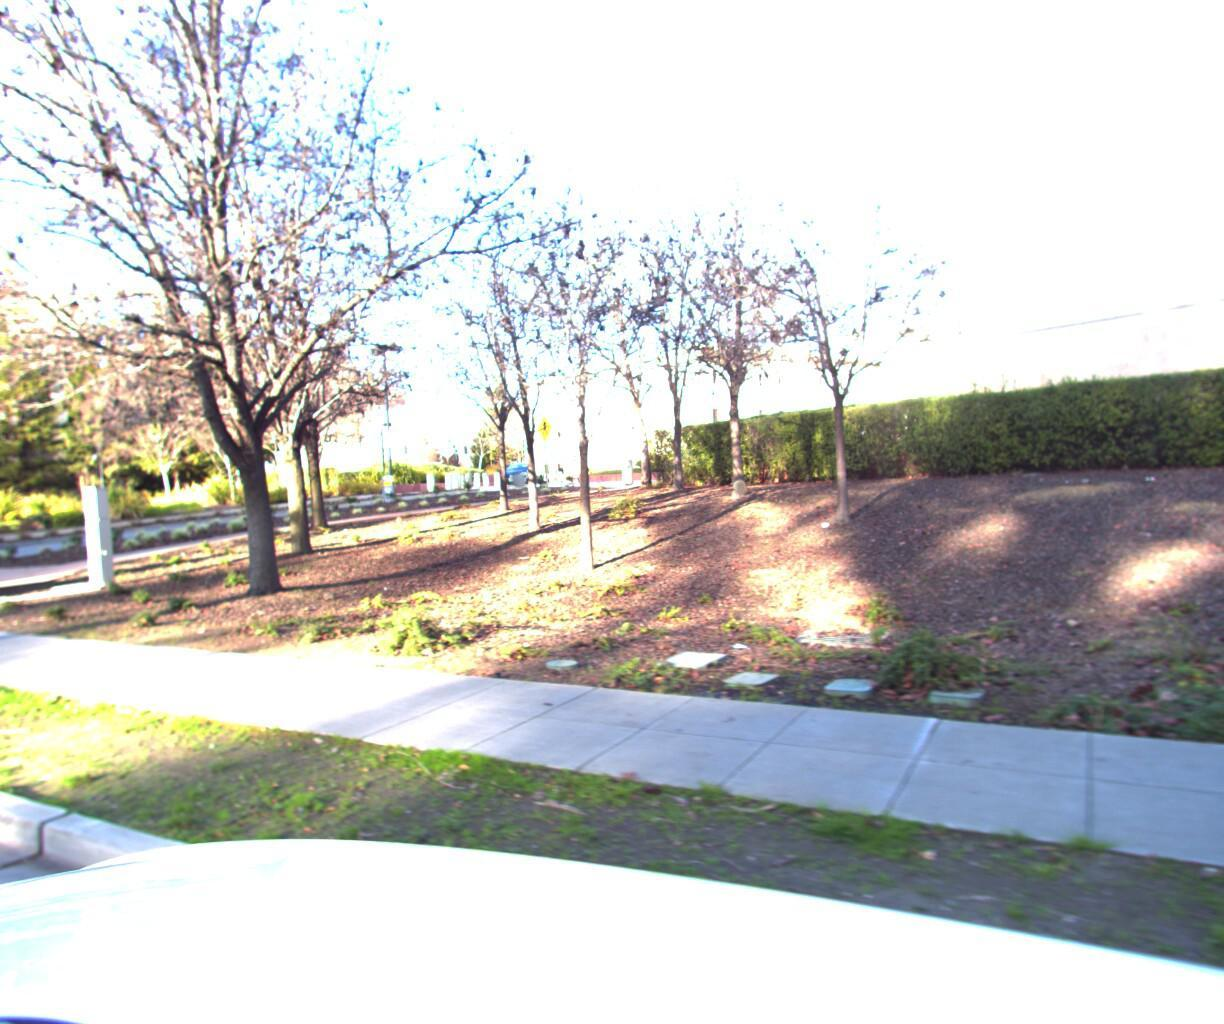car: (492, 458, 538, 485)
